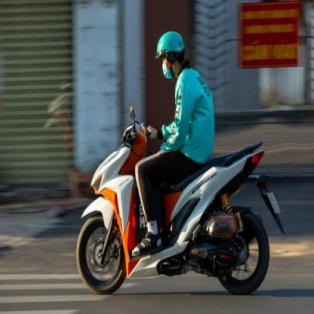Motocicleta: (74, 106, 278, 294)
